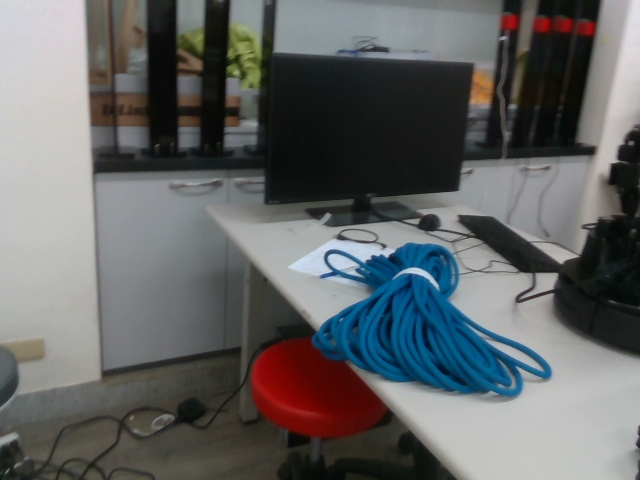rope: (308, 237, 558, 401)
